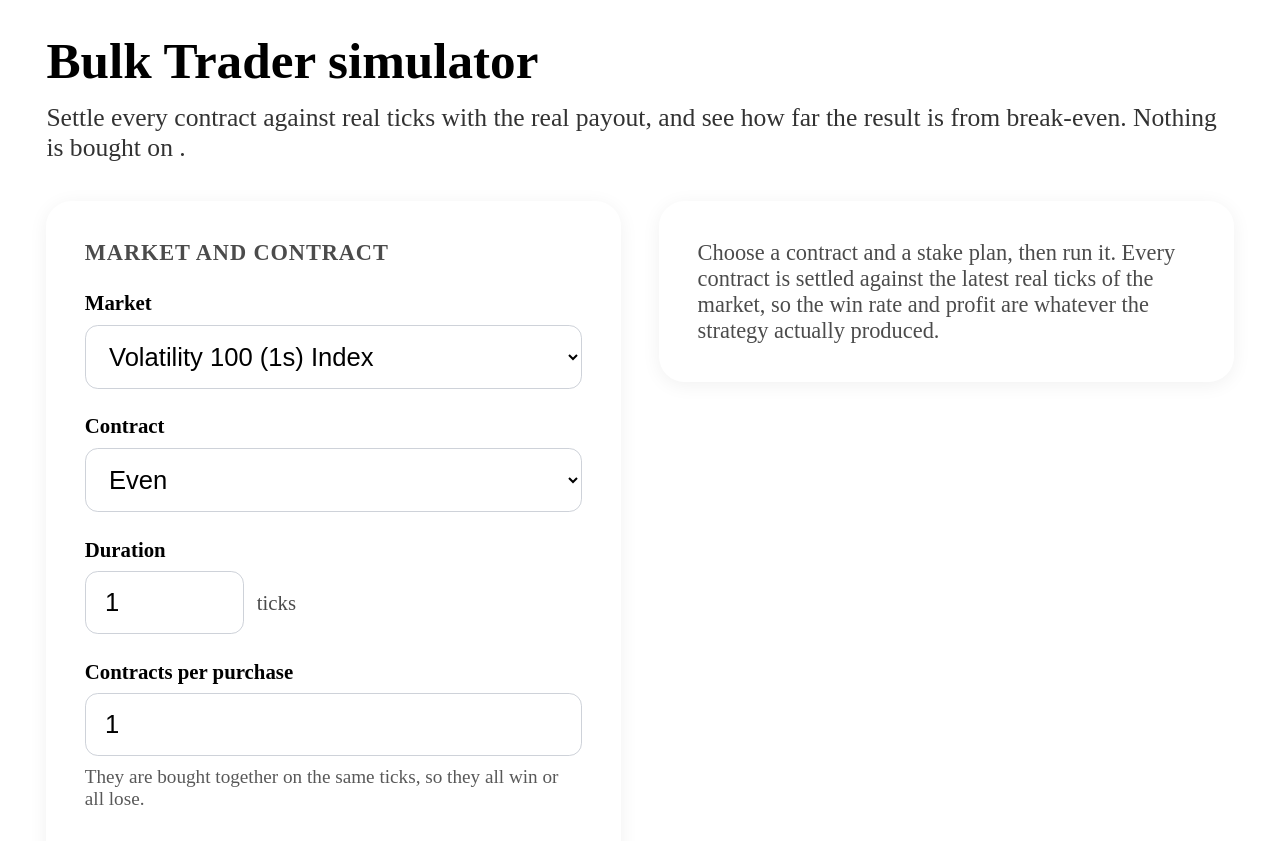
Test: <BulkTrader /> › checks the inputs before it asks the server for anything
Replace the text in the number field with test id "dt_bulk_duration" with "0" at (164,603), box [85,571,244,634]
(page scrolled)
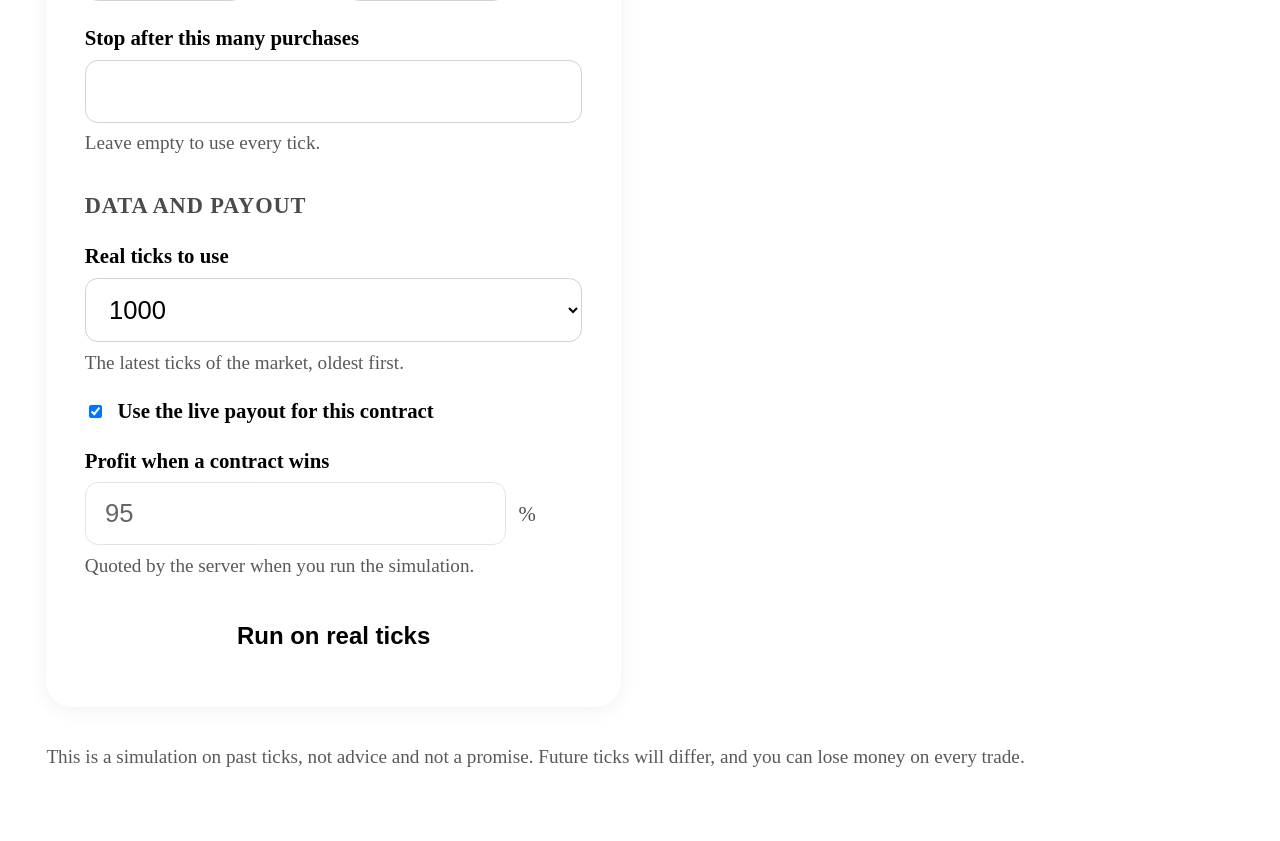
Click the button with test id "dt_bulk_run" at (334,636), box [85,603,582,669]
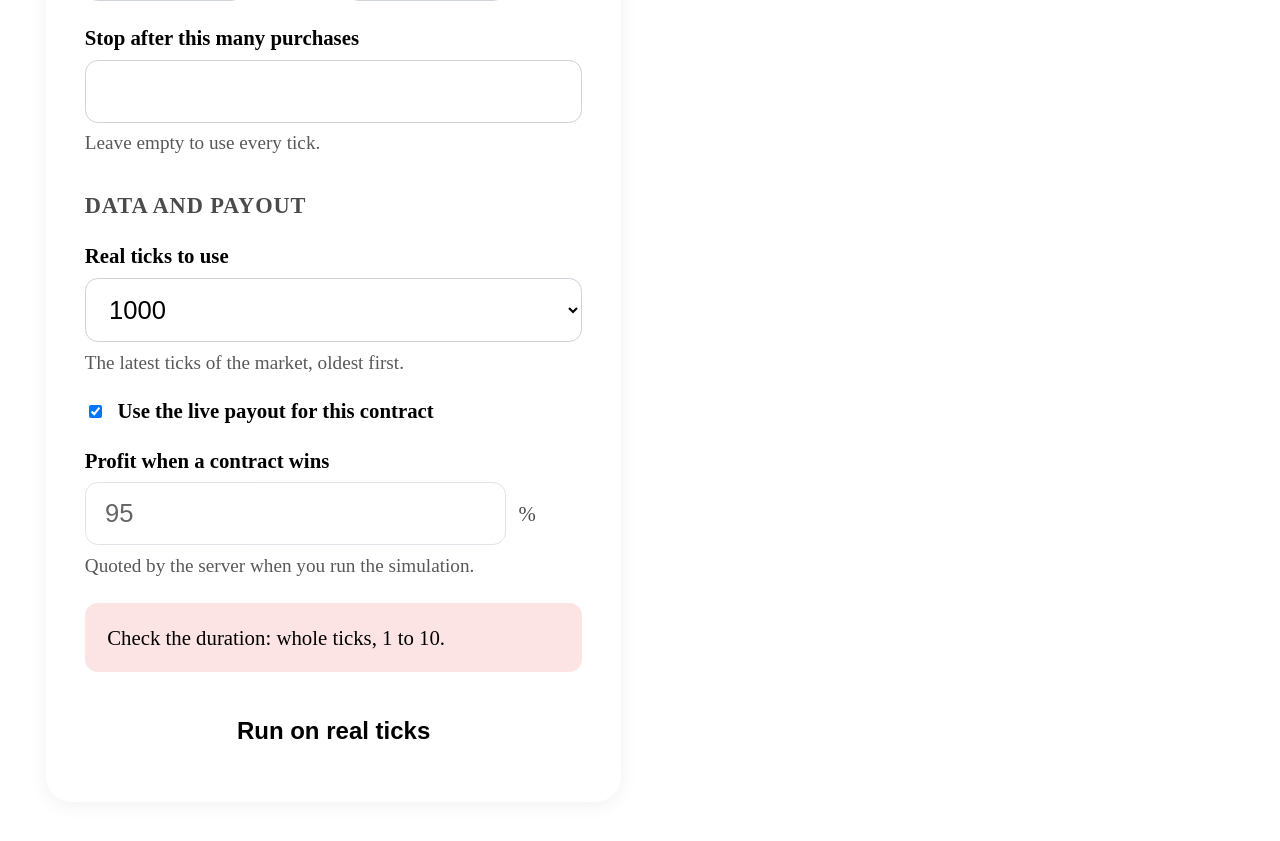
Now the message with test id "dt_bulk_error" shows "Check the duration", box [107,626,445,649]
